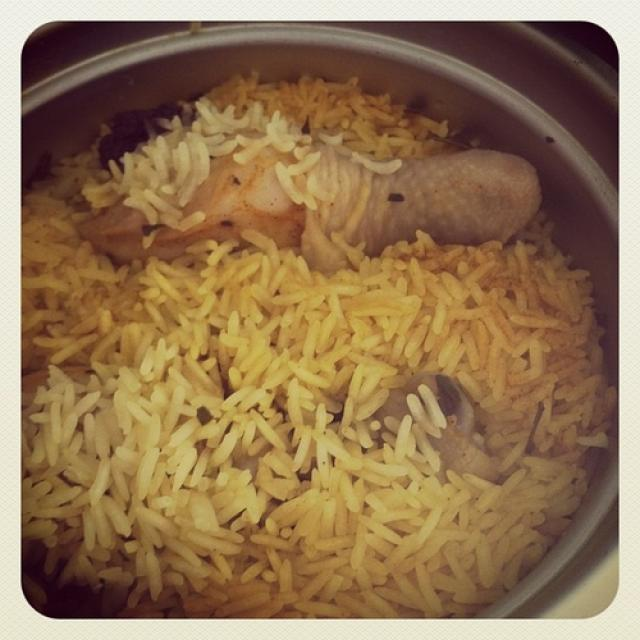米饭主食: (32, 23, 605, 621)
